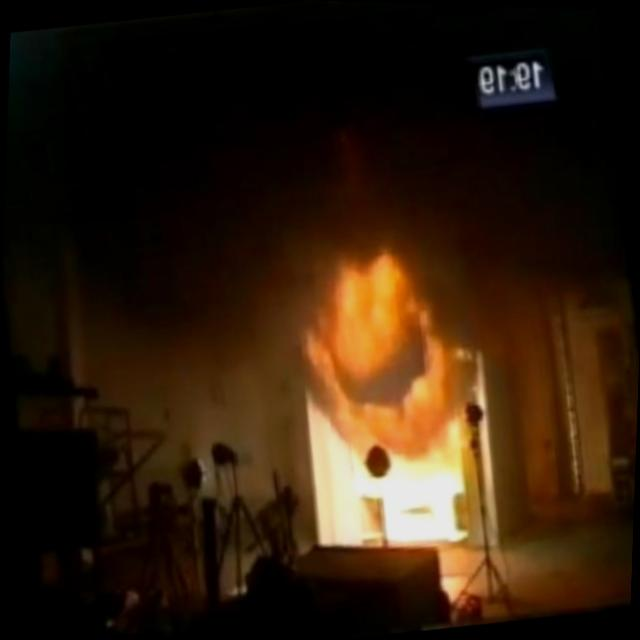fire: (268, 224, 474, 454)
